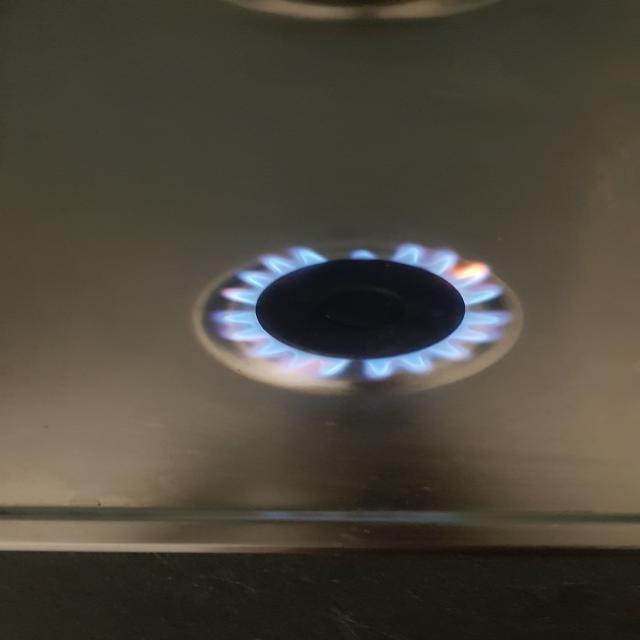Flame: (205, 245, 525, 387)
